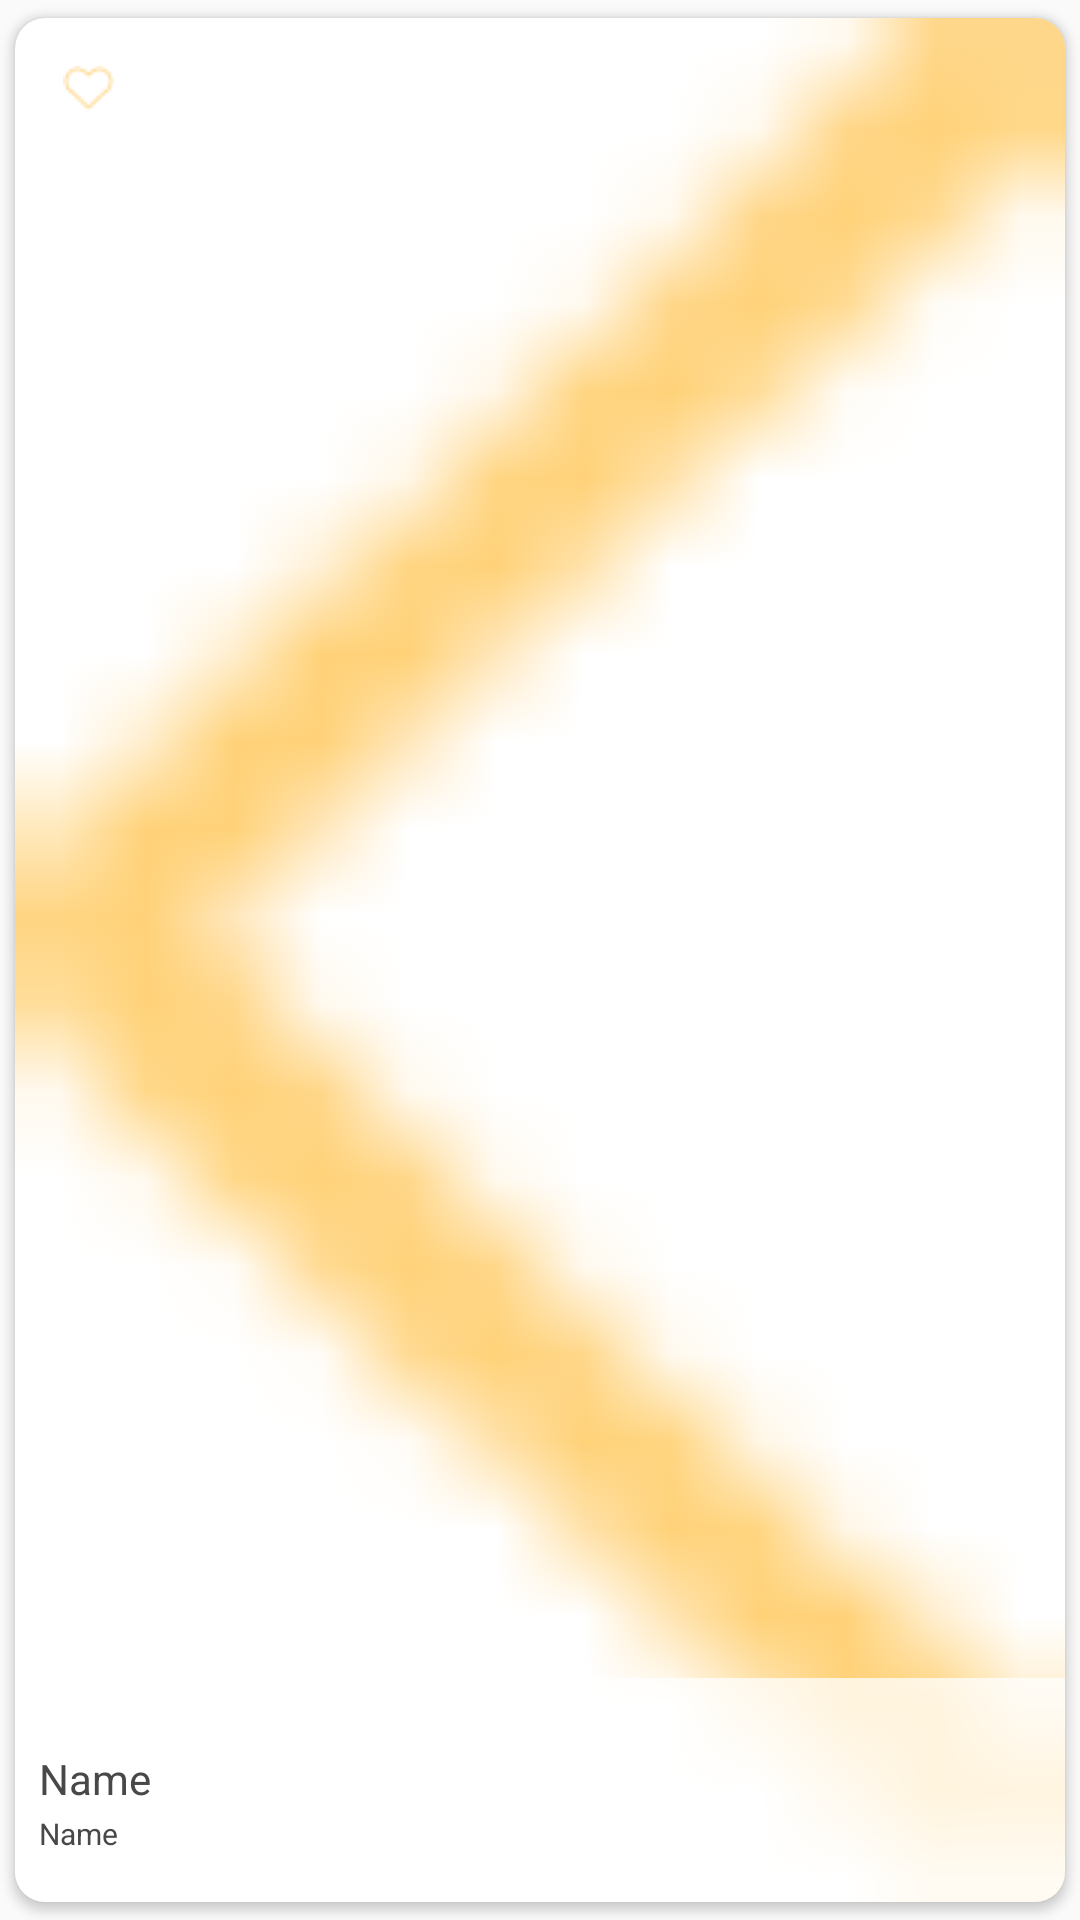

Icons on this 1080 x 1920 Android screen, each with the point to tap as [x,y]:
love: [88,87]
